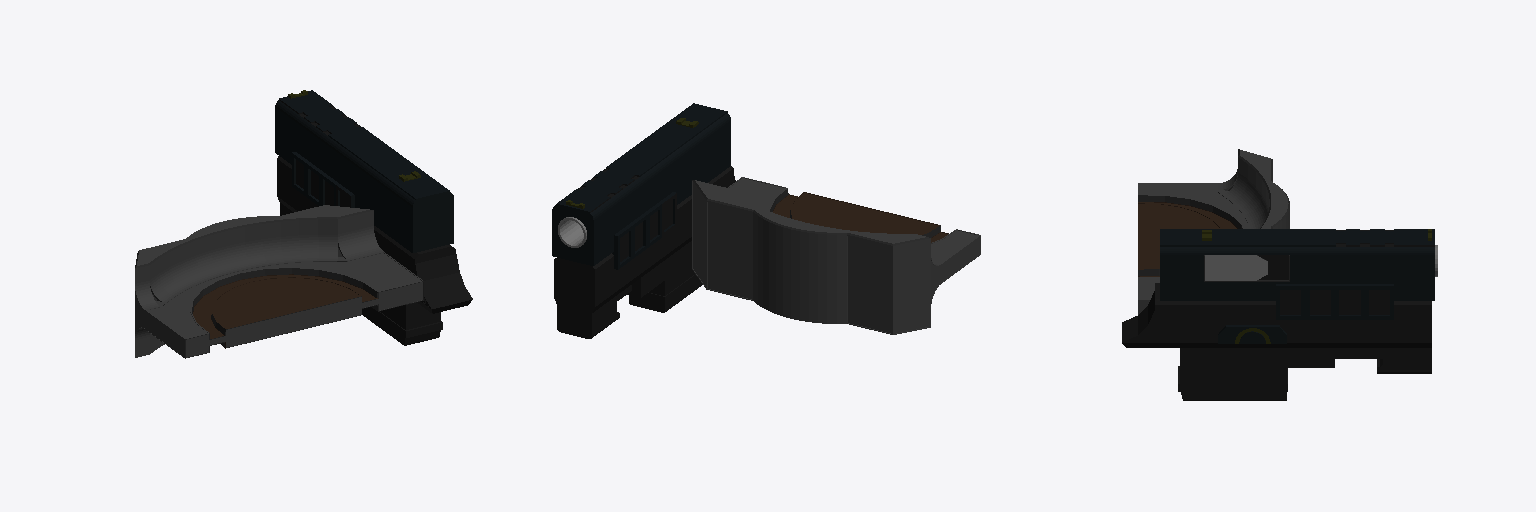
File: 14mm_pistol.obj
3 views of the same model, side by side, from view 1: azimuth 30°, elevation 25°; view 2: azimuth 150°, elevation 25°; view 3: azimuth 270°, elevation 25° (orthographic).
Bounding box in the file's own units: 6.34 × 3.39 × 6.11.